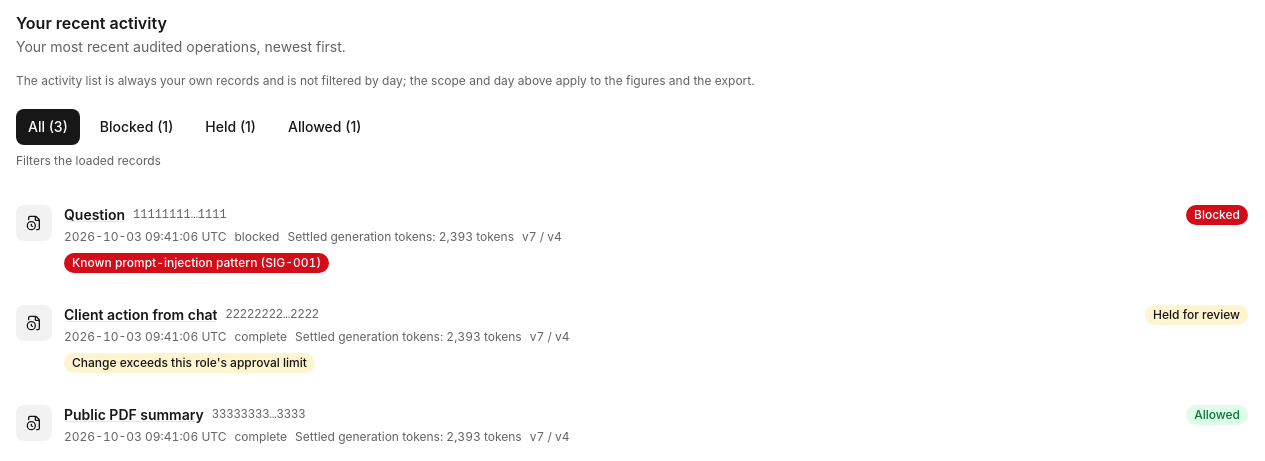
it: decision filters › narrows the loaded rows, marks the pressed chip and says what it filters
Expected: the text "Filters the loaded records" is shown, [16,153,161,168]
Click the button "Blocked (1)": [137, 127] box [88,109,185,145]
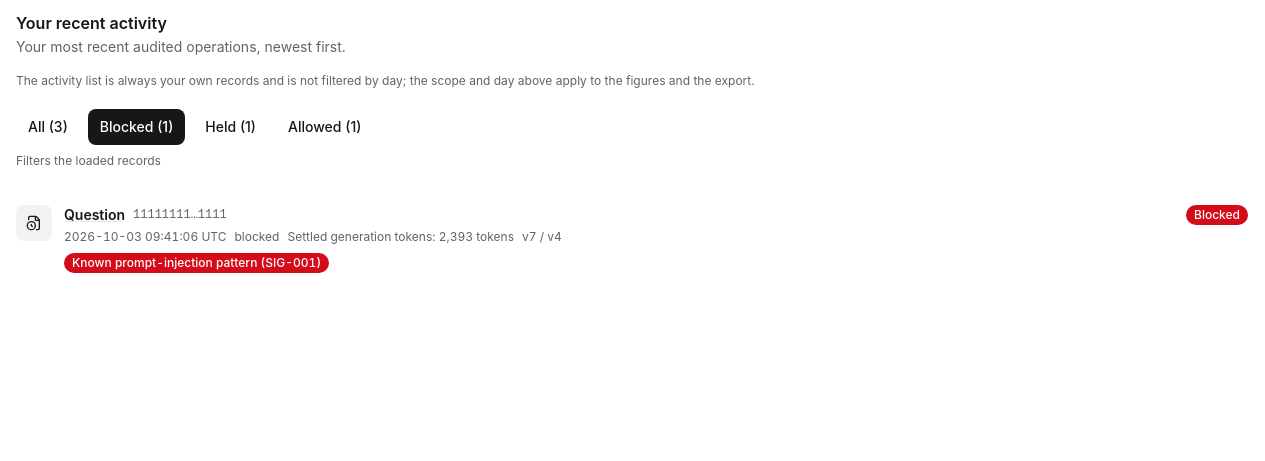
Expected: the link "Question" is shown, [64,205,125,225]
Expected: the link "Client action from chat" is gone
Click the button "Held (1)": [231, 127] box [193,109,268,145]
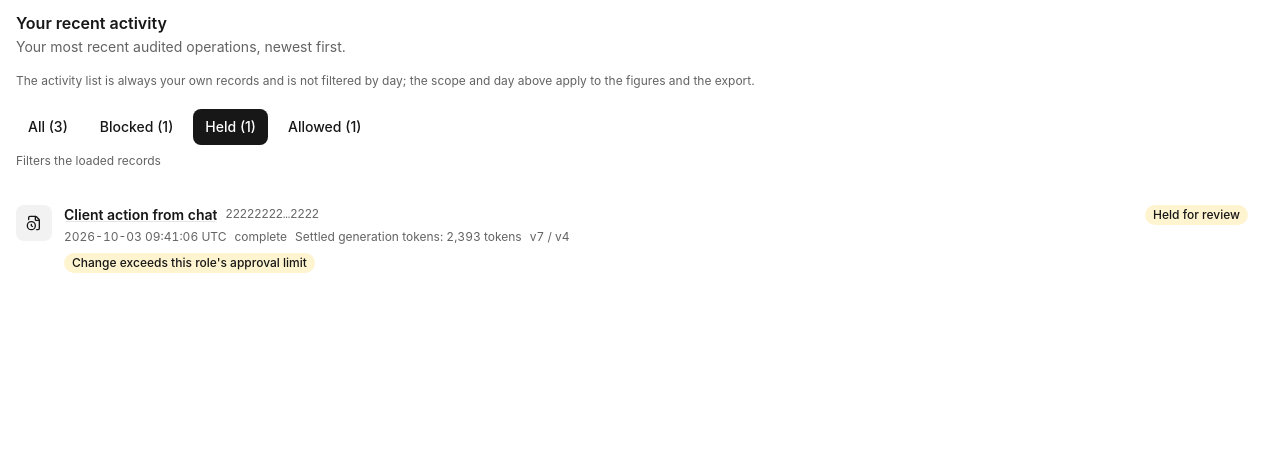
Expected: the link "Client action from chat" is shown, [64,205,217,225]
Expected: the link "Question" is gone
